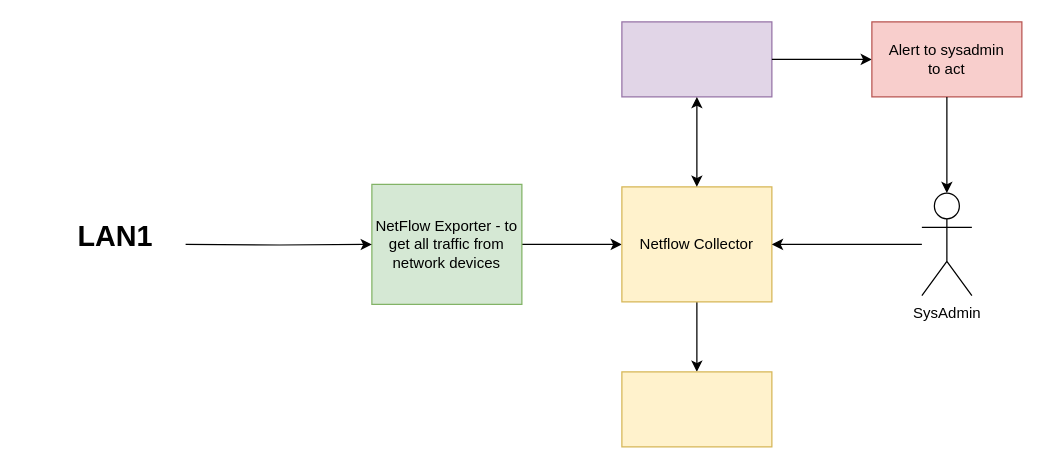
Some shapes in this 1044 by 469 pixel diagram are drawn without their labels. The centre of each missing label's shape, as x and y in pixels:
AI to detect a bad patterns: the point at 696,59
NetFlow Storage: the point at 696,409
